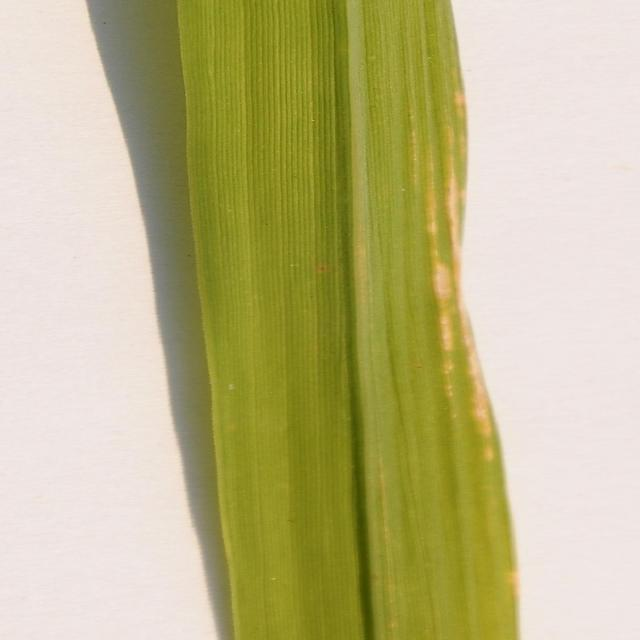Bacterial leaf blight: (140, 3, 574, 640)
